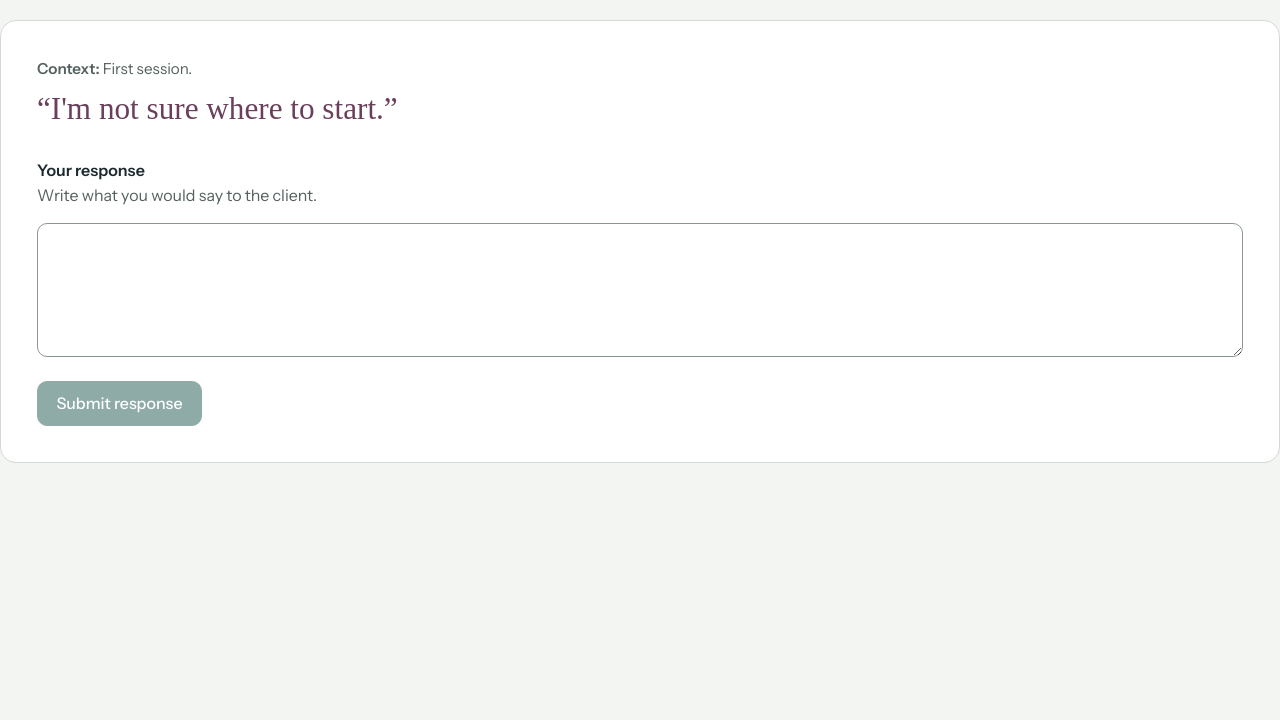
DrillCard › shows a hint when fewer than 2 criteria are ticked or the response is under 20 characters
Type "short" into the text box labelled "Your response" at (640, 290), box [37, 223, 1243, 357]
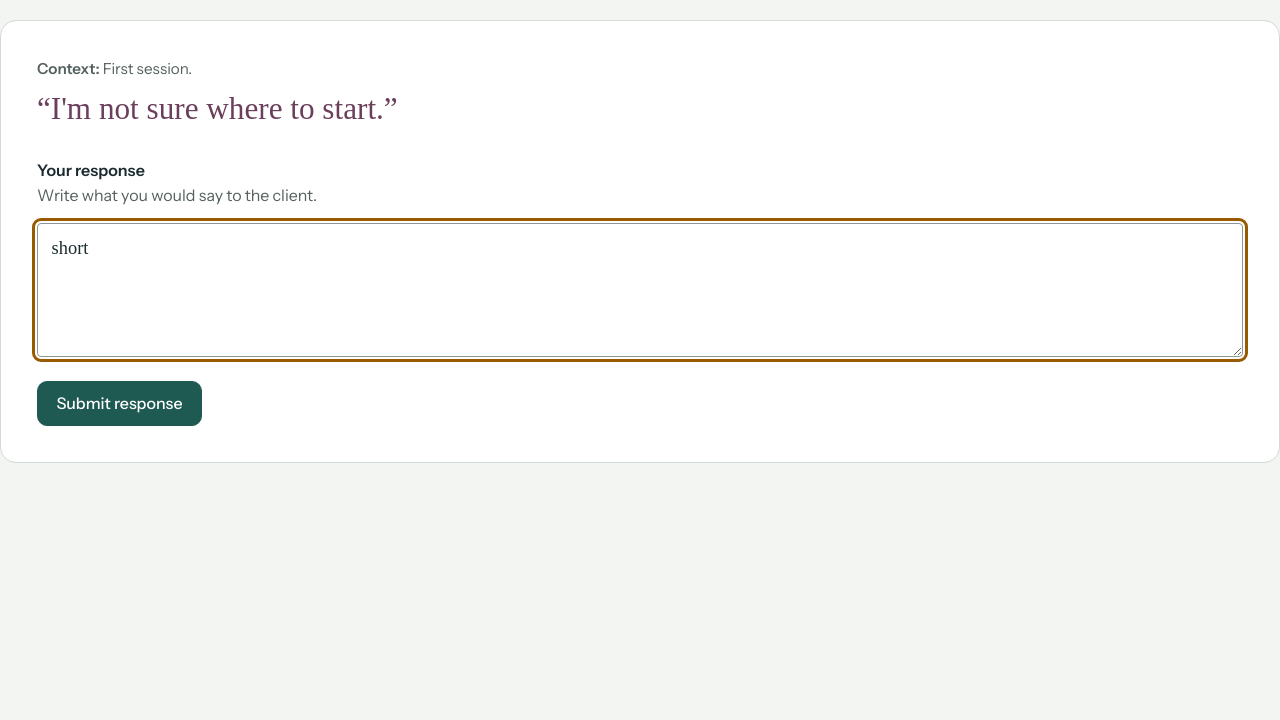
Click the button "Submit response" at (120, 404), box [37, 381, 202, 426]
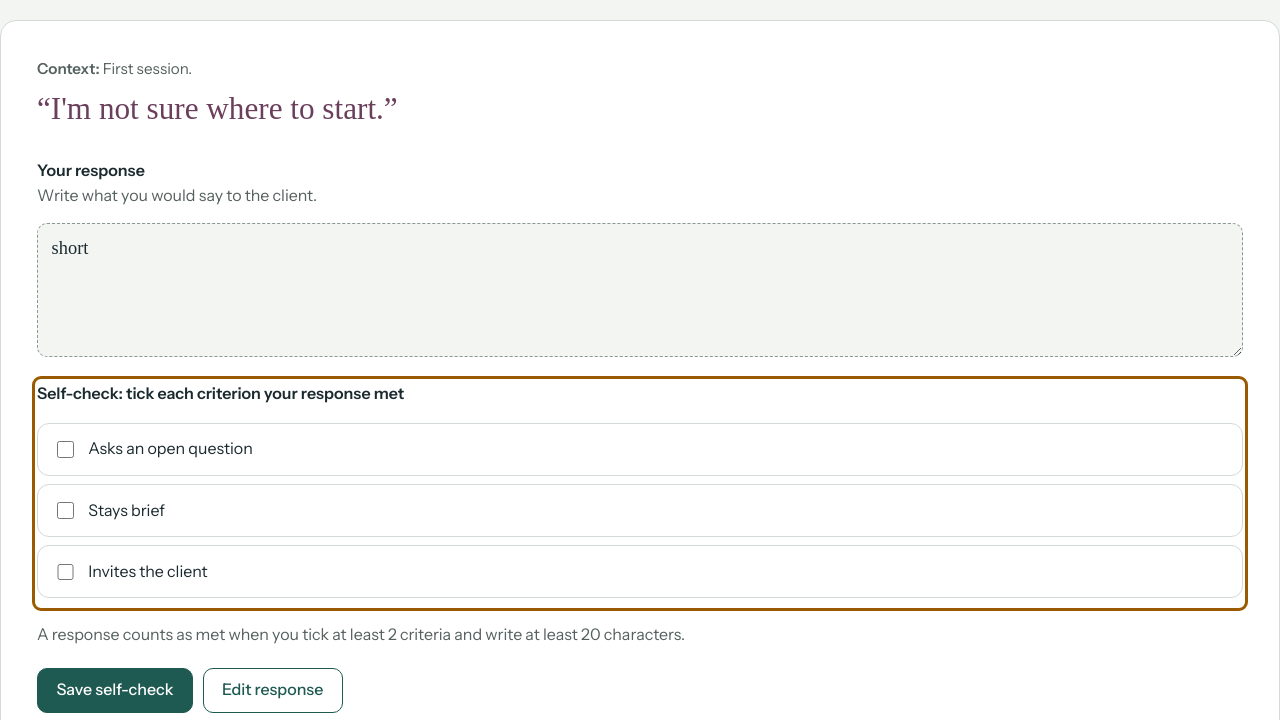
Click the button "Save self-check" at (115, 690), box [37, 668, 193, 713]
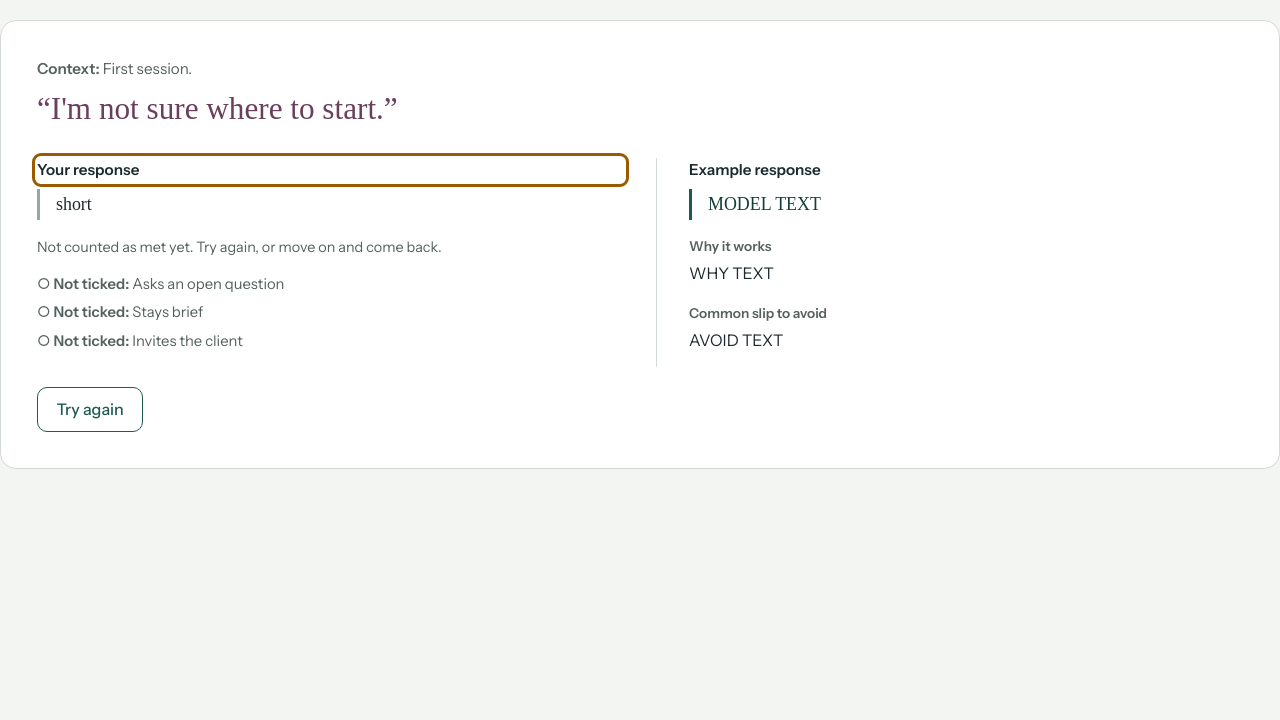
Expected: the text "Not counted as met yet. Try again, or move on and come back." is shown, [37, 238, 442, 256]
